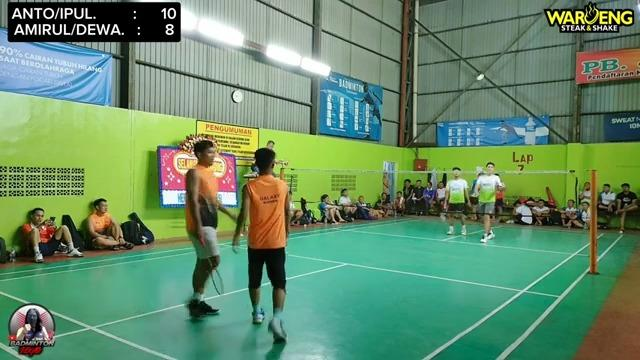Shuttlecock: (474, 72, 488, 82)
